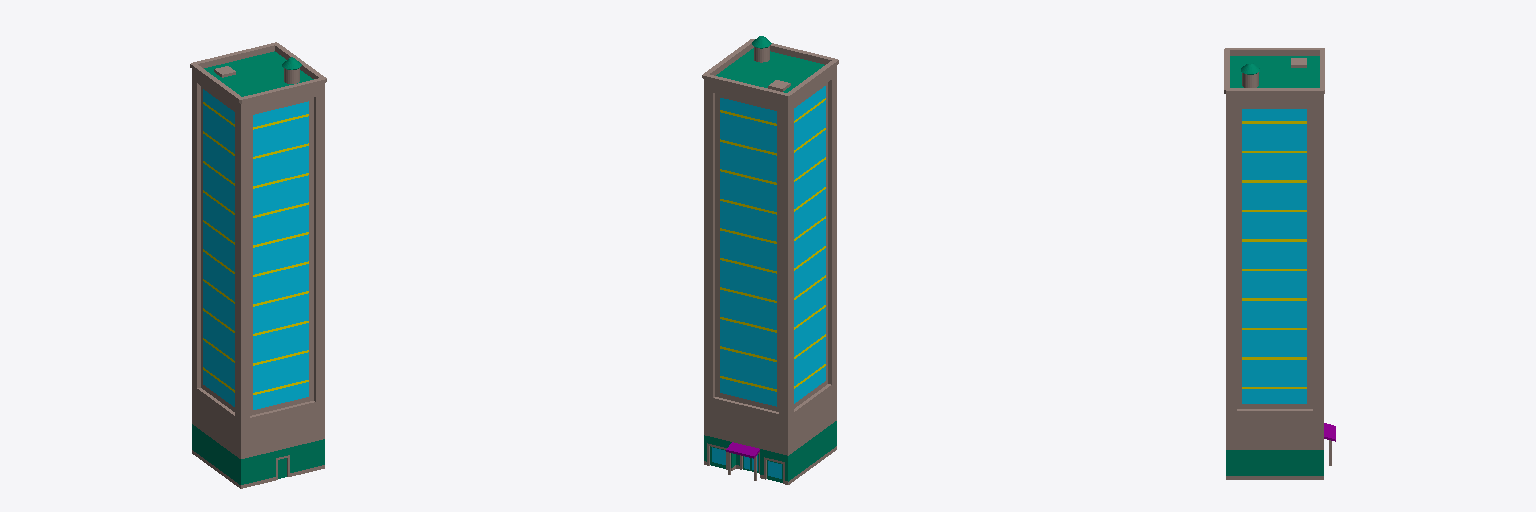
The model's file is skyscraperD_CyPk.obj.
The picture shows the model from 3 angles: view 1: azimuth 30°, elevation 25°; view 2: azimuth 150°, elevation 25°; view 3: azimuth 270°, elevation 25°; orthographic projection.
Parts seen in each view (by area): view 1: skyscraperD; view 2: skyscraperD; view 3: skyscraperD.
Boxes of the visible parts, <box> form: skyscraperD: <box>190,42,326,488</box>; skyscraperD: <box>702,36,838,484</box>; skyscraperD: <box>1224,48,1335,479</box>.
Bounding box in the file's own units: 1.24 × 5.5 × 1.37.